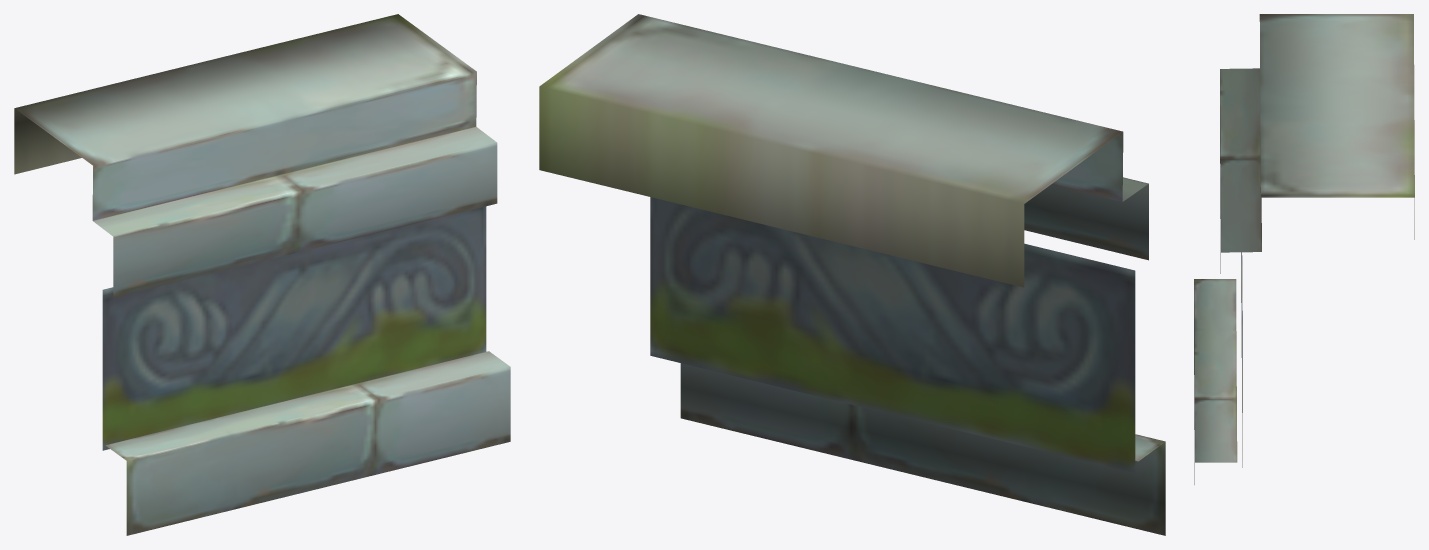
Rendered from Map_06_wall12.FBX.
3 renders of one model, left to right at view 1: azimuth 30°, elevation 25°; view 2: azimuth 150°, elevation 25°; view 3: azimuth 270°, elevation 25°, orthographic. The views are drawn at different scales.
Parts seen in each view (by area): view 1: Map_06_wall12; view 2: Map_06_wall12; view 3: Map_06_wall12.
Boxes of the visible parts, x1,y1,x2,y2 form: Map_06_wall12: (14,14,510,535); Map_06_wall12: (539,14,1165,535); Map_06_wall12: (1194,14,1414,484).
Bounding box in the file's own units: 194 × 98.49 × 166.
